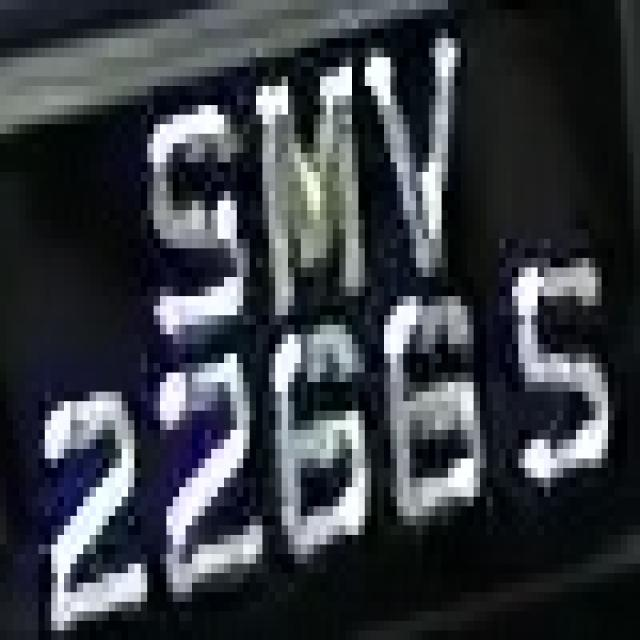2: (115, 325, 275, 602), (26, 363, 160, 640)
6: (371, 277, 499, 554), (262, 287, 378, 554)
M: (237, 57, 365, 325)
S: (486, 210, 621, 516), (128, 95, 250, 344)
V: (358, 19, 474, 287)
